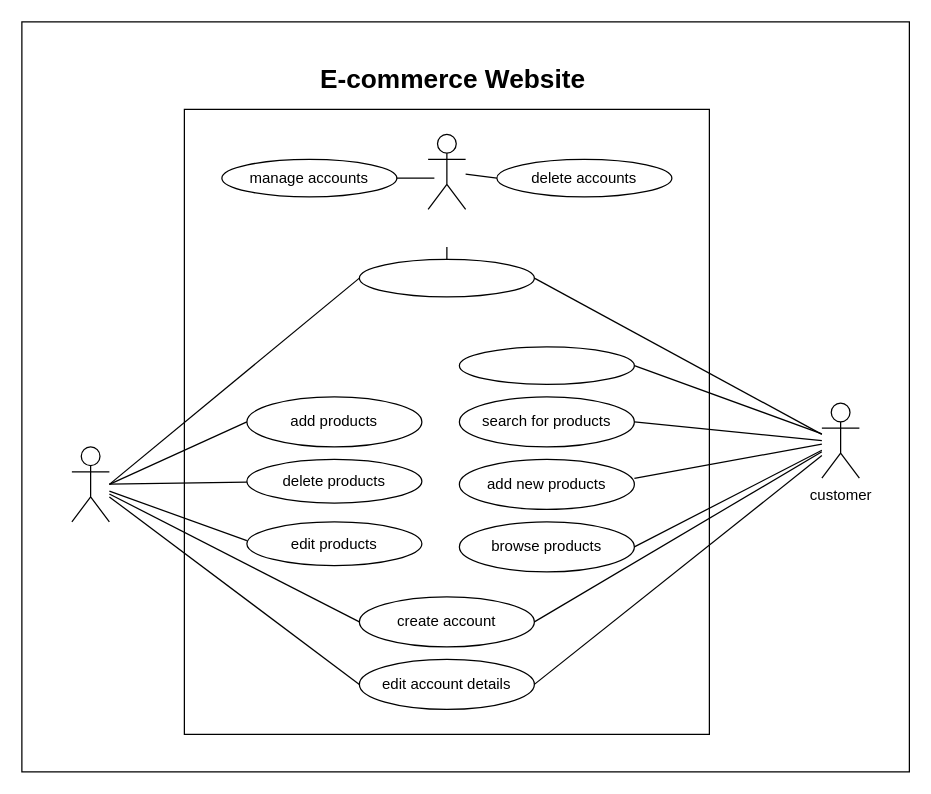
The diagram is 931 pixels wide and 794 high, and some of its shapes have lost their labels. The shapes that lost their labels are listed below. From the top down, each one's centre as x and y in pixels, then its label:
At point (446, 171): "admin".
At point (446, 277): "log in".
At point (546, 365): "buy products".
At point (90, 484): "seller".
